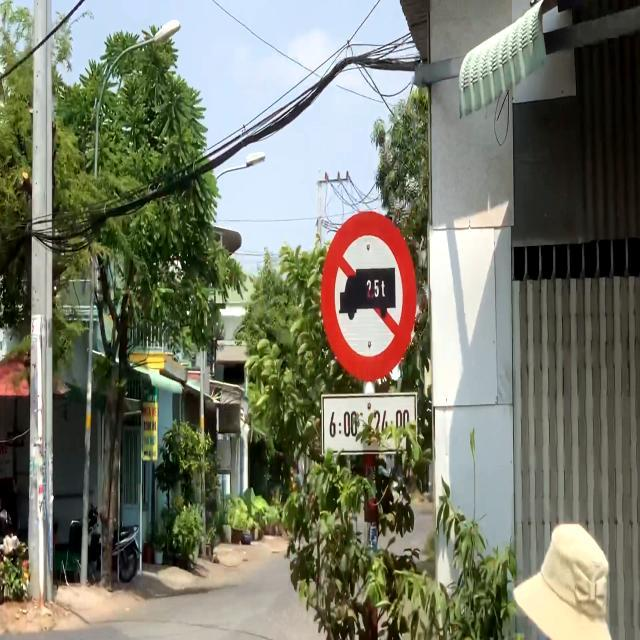Cam xe tai tren 2_5: (319, 209, 418, 383)
